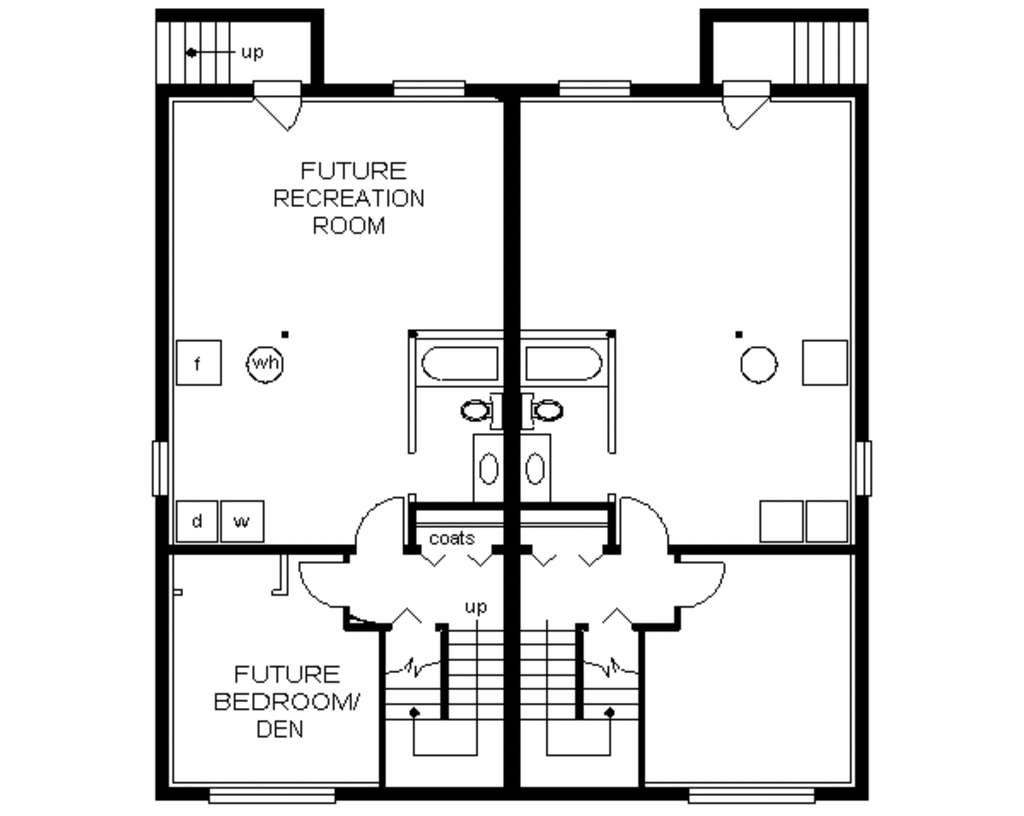door: (613, 493, 679, 555), (717, 71, 775, 139), (344, 498, 405, 559), (291, 552, 348, 610), (252, 83, 306, 136), (676, 559, 728, 606)
large_sink: (442, 390, 504, 436), (521, 390, 575, 436)
small_sink: (467, 426, 504, 504), (525, 434, 550, 498)
stairs: (521, 624, 647, 789), (383, 619, 502, 787), (775, 4, 886, 99), (148, 8, 239, 99)
tub: (410, 330, 504, 387), (522, 325, 613, 382)
window: (200, 788, 336, 808), (689, 787, 818, 804), (394, 72, 469, 101), (146, 437, 175, 499), (850, 435, 874, 498), (559, 83, 637, 101)
